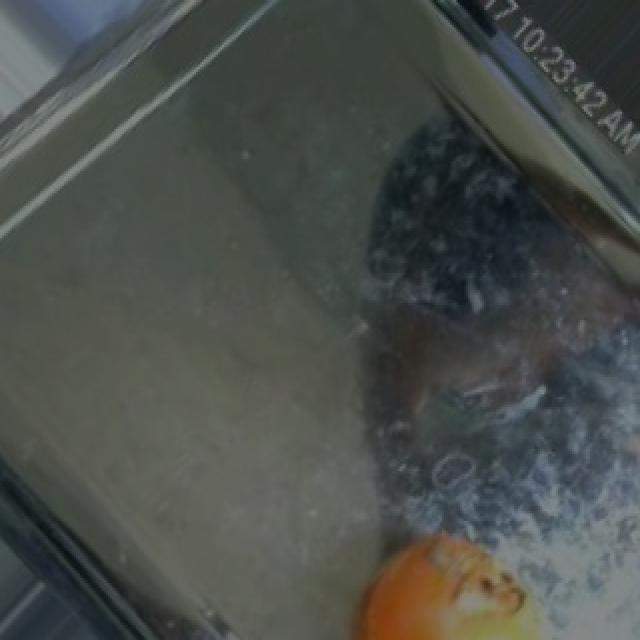Fruit: (324, 513, 540, 640)
